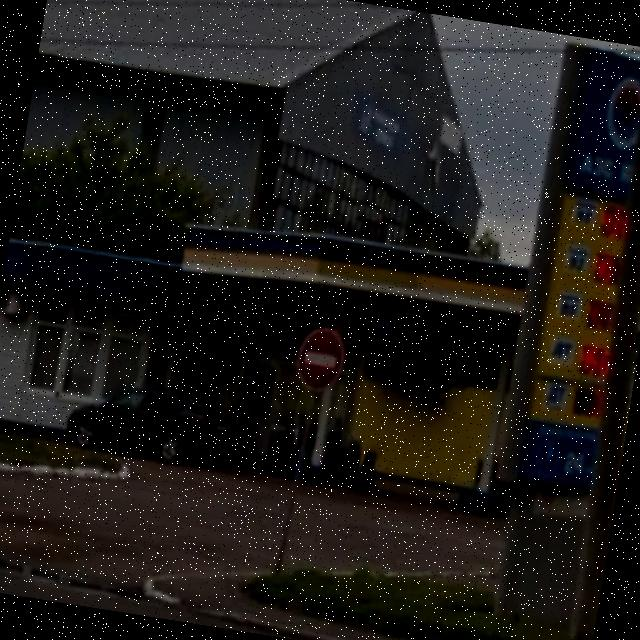Zakaz wjazdu: (288, 318, 354, 402)
